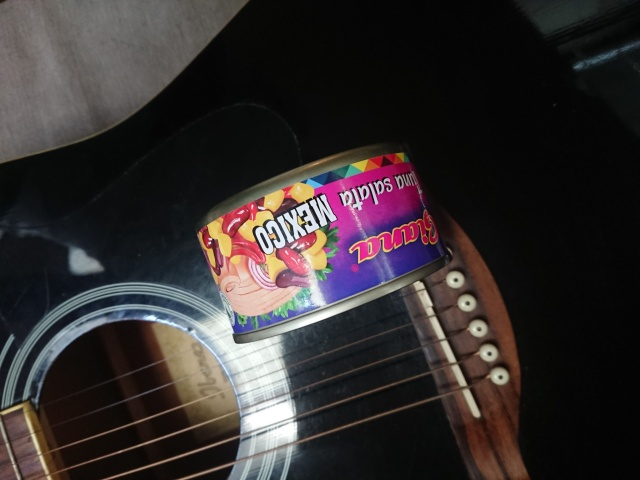Giana Tuna Salad Mexico 185g: (190, 136, 456, 345)
